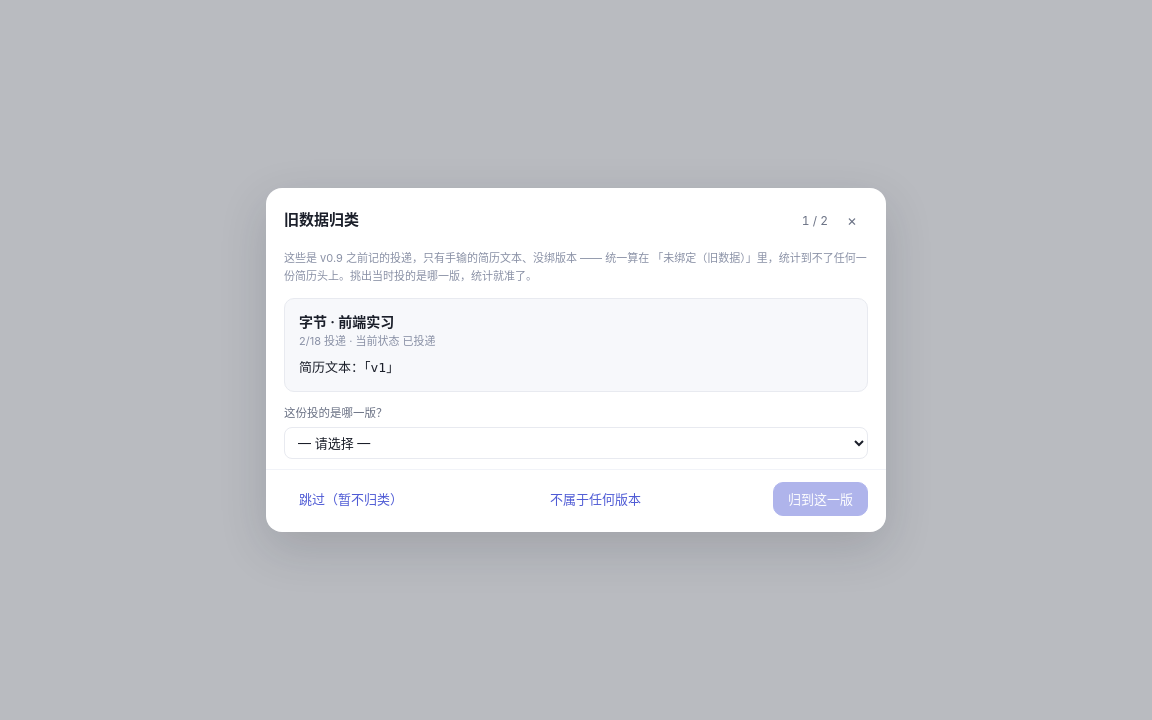
Scenario: LegacyBindPanel（jsdom） › ★ 跳过 = 零写入，且会前进（不替用户表态）
What coordinates should you click on to do the following:
click the button "跳过（暂不归类）"
I would click on:
 (351, 499)
Its box is [284,482,418,516].
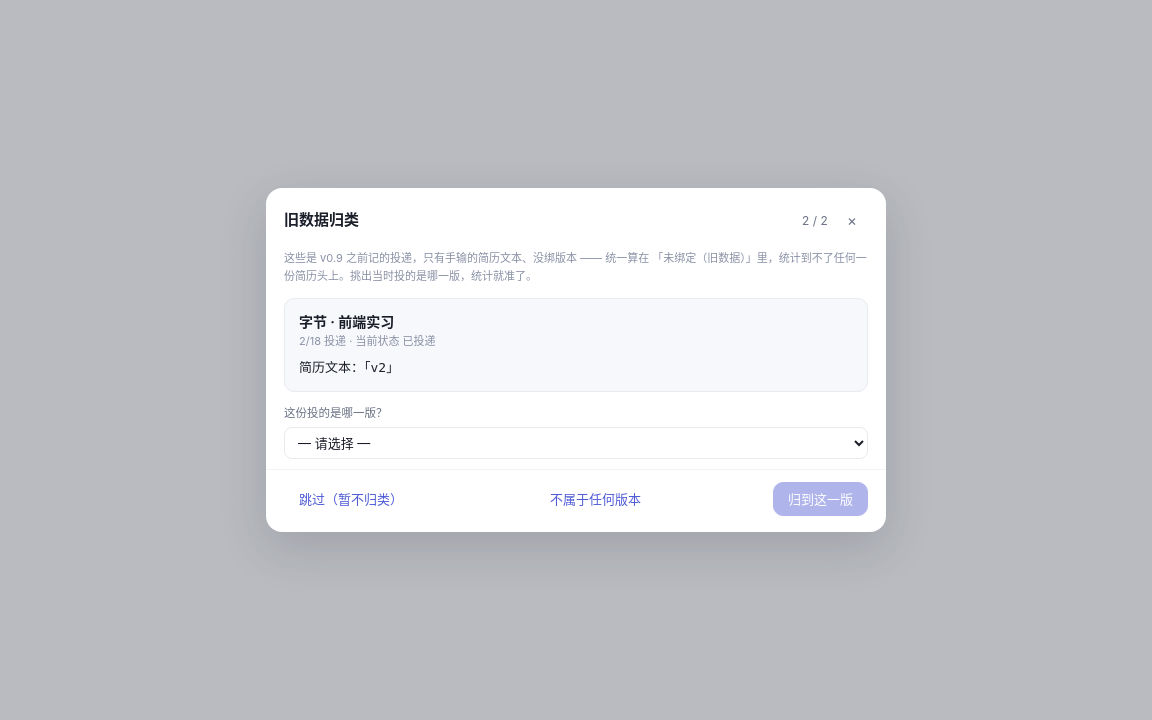
Result: the text "2 / 2" is shown at [802,211,828,230]
